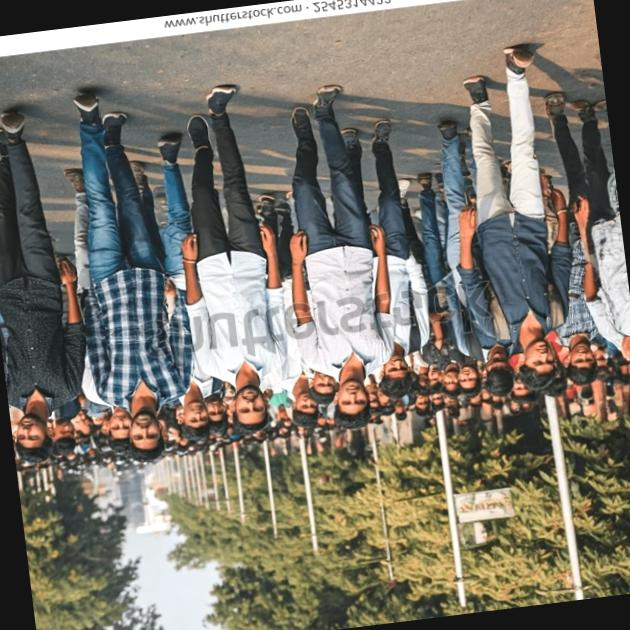there is a person: (76, 77, 210, 462), (182, 63, 314, 444), (290, 66, 405, 432), (0, 89, 107, 477), (452, 144, 594, 350)
